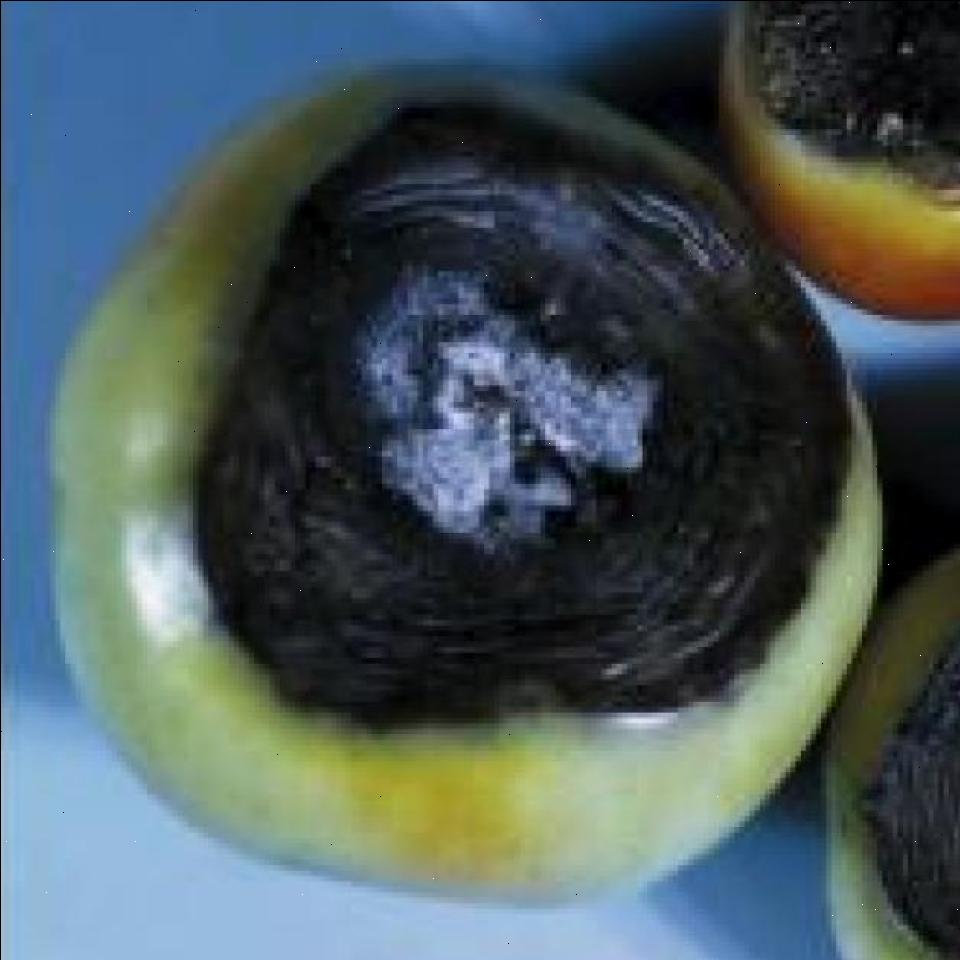Blossom_end_rot: (194, 100, 874, 750), (739, 0, 960, 223), (872, 631, 960, 960)
